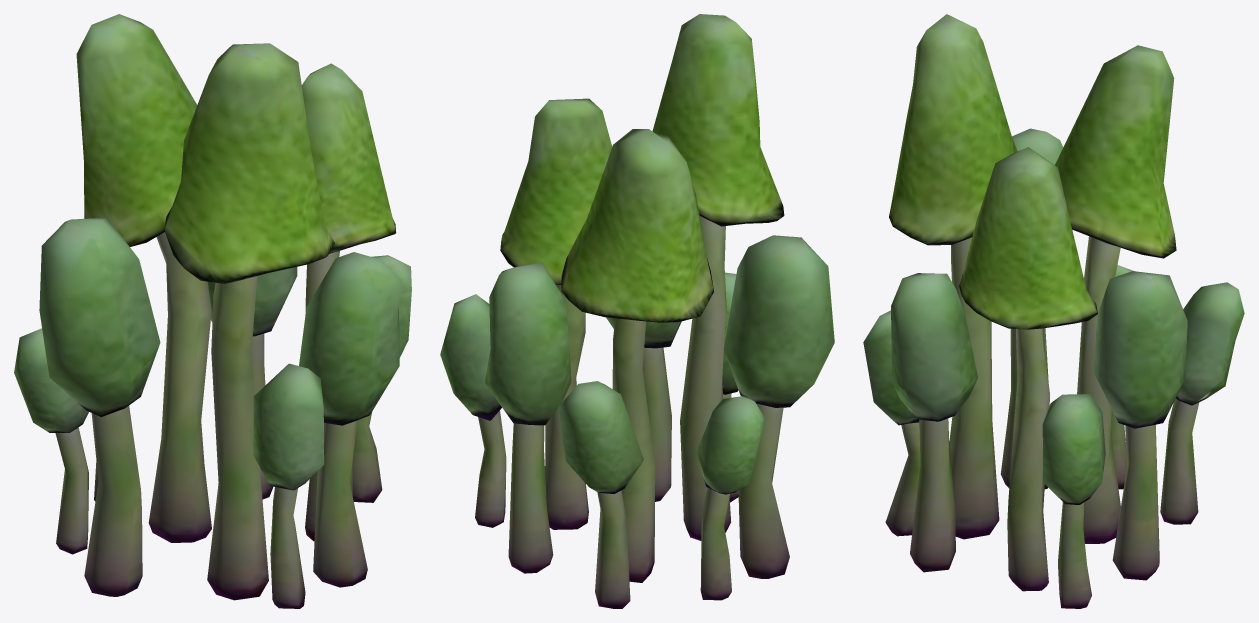
Rendered from SM_CaveMushroom_e3ca3a.glb.
3 renders of one model, left to right at view 1: azimuth 30°, elevation 25°; view 2: azimuth 150°, elevation 25°; view 3: azimuth 270°, elevation 25°, orthographic. The views are drawn at different scales.
Bounding box in the file's own units: 0.464 × 0.6344 × 0.4254.
1 material, 1 textured.
